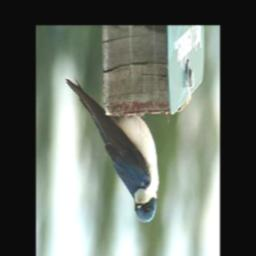Swallow: (65, 77, 160, 224)
